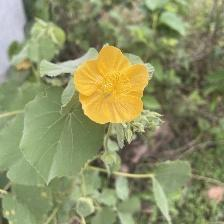indian mallow: (75, 45, 151, 130)
